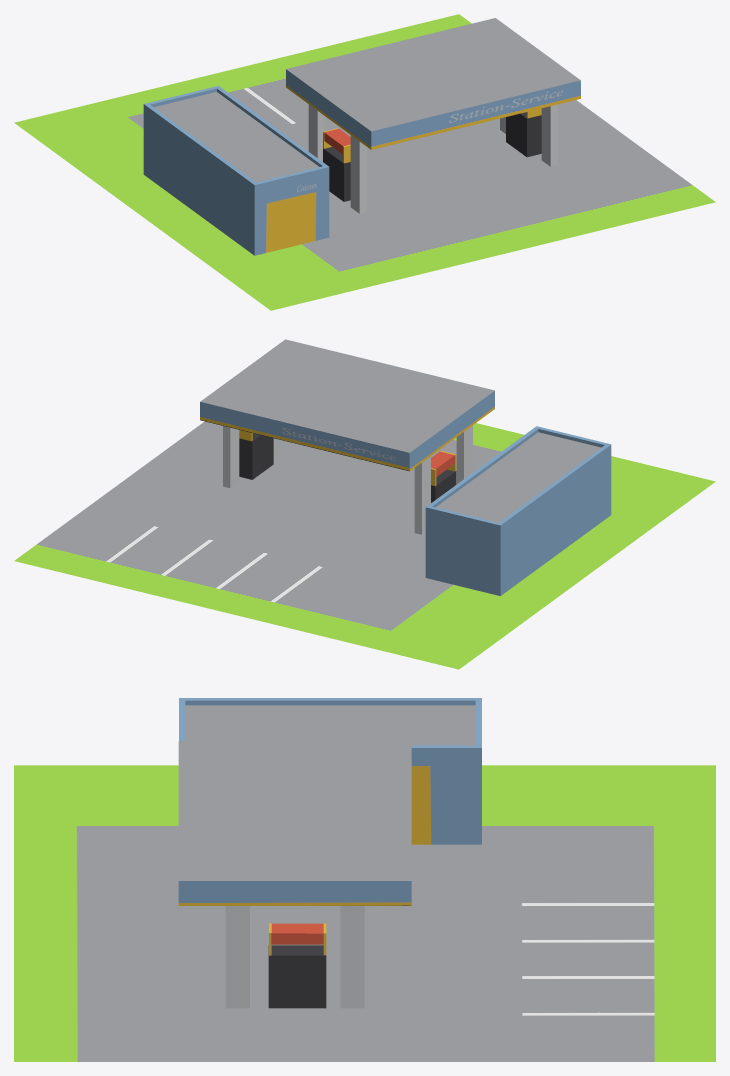
The model's file is StationEssence_1.glb.
The picture shows the model from 3 angles, top to bottom: view 1: azimuth 30°, elevation 25°; view 2: azimuth 150°, elevation 25°; view 3: azimuth 270°, elevation 25°; orthographic projection. The views are drawn at different scales.
Parts seen in each view (by area): view 1: Plan; view 2: Plan; view 3: Plan.
Boxes of the visible parts, box(x1,y1,x2,y2) form: Plan: box(14, 14, 715, 310); Plan: box(14, 339, 715, 669); Plan: box(14, 698, 715, 1061).
Bounding box in the file's own units: 15 × 3.35 × 15.
Materials: 1 (1 with a texture image).
